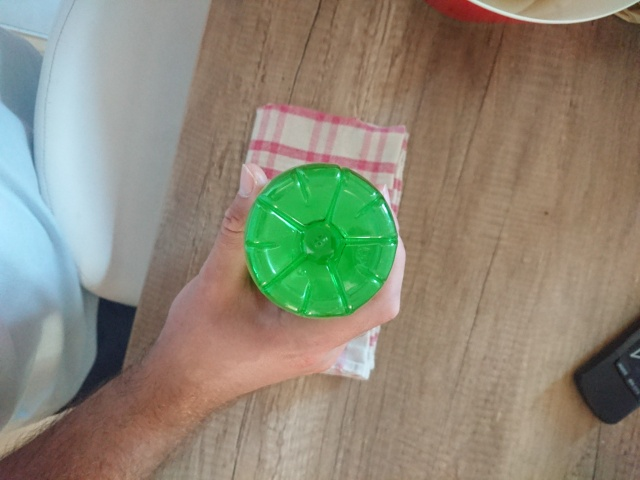Vindi Iso Sport Lemon-Grapefruit 500mL: (238, 159, 402, 324)
